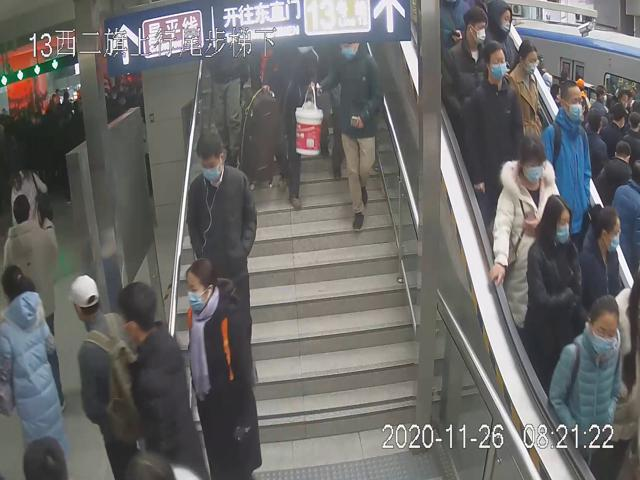person: (181, 256, 262, 480), (187, 126, 257, 368), (486, 132, 559, 338), (461, 37, 523, 227), (324, 37, 382, 231), (528, 194, 582, 388), (540, 77, 593, 240)
